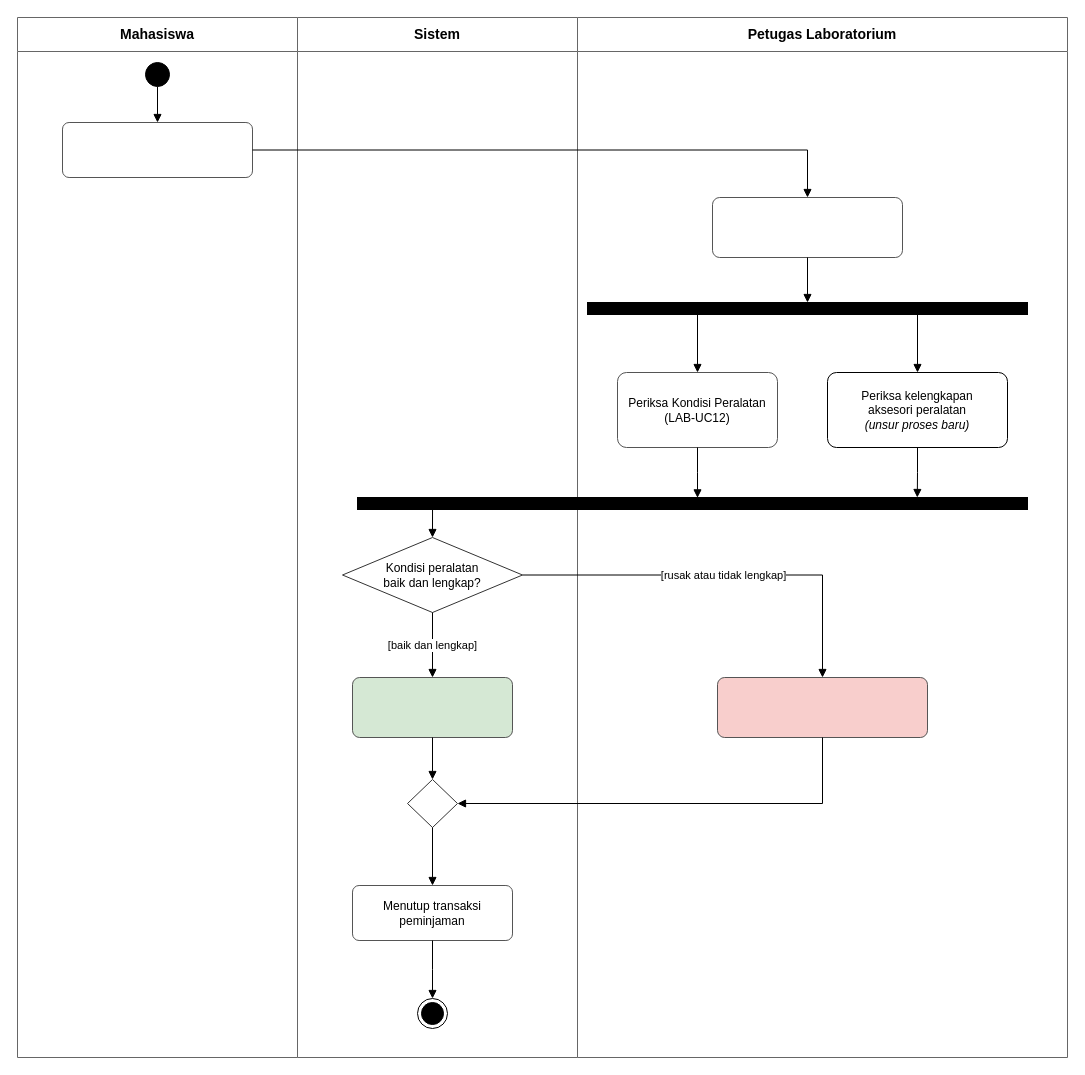
Image size: 1085x1075. Some labels were removed from this diagram. The shapes that lost their labels are listed below. From the top down, each one's centre as x and y in pixels, then its label:
At point (157, 150): "Menyerahkan peralatan yang dipinjam".
At point (807, 227): "Catat Pengembalian Peralatan (LAB-UC11)".
At point (432, 707): "Perbarui status peralatan menjadi tersedia".
At point (822, 707): "Catat kerusakan dan jadwalkan perbaikan".
